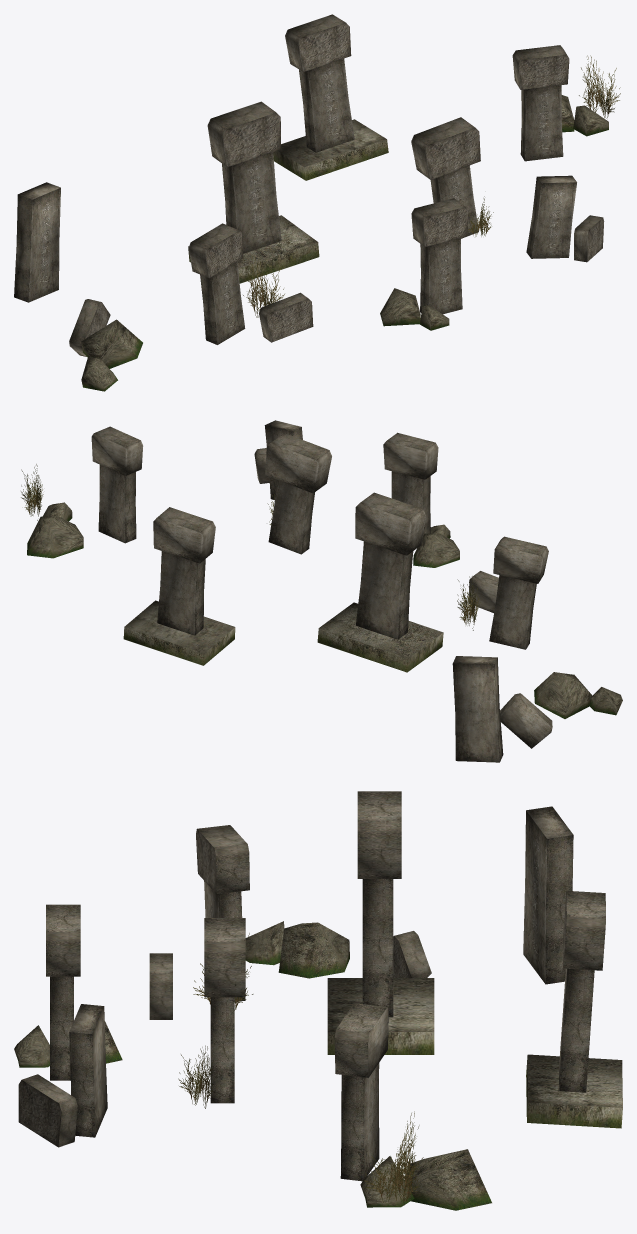
Rendered from cj_grave_tombstone08_01.glb.
3 views of the same model, one above another, from view 1: azimuth 30°, elevation 25°; view 2: azimuth 150°, elevation 25°; view 3: azimuth 270°, elevation 25° (orthographic). The views are drawn at different scales.
Visible parts, largest first — view 1: cj_grave_tombstone08_01, cj_grave_tombstone08_02, cj_grave_tombstone08_03, cj_grave_tombstone08_05, cj_grave_tombstone08_04; view 2: cj_grave_tombstone08_01, cj_grave_tombstone08_03, cj_grave_tombstone08_05, cj_grave_tombstone08_04; view 3: cj_grave_tombstone08_01, cj_grave_tombstone08_05, cj_grave_tombstone08_03, cj_grave_tombstone08_02, cj_grave_tombstone08_04.
Part boxes in pixels (bbox=[...]): cj_grave_tombstone08_01: bbox=[14, 14, 602, 357]; cj_grave_tombstone08_02: bbox=[85, 22, 604, 342]; cj_grave_tombstone08_03: bbox=[188, 119, 388, 283]; cj_grave_tombstone08_05: bbox=[81, 95, 608, 391]; cj_grave_tombstone08_04: bbox=[243, 55, 620, 317]; cj_grave_tombstone08_01: bbox=[91, 420, 552, 762]; cj_grave_tombstone08_03: bbox=[123, 600, 443, 672]; cj_grave_tombstone08_05: bbox=[27, 502, 622, 718]; cj_grave_tombstone08_04: bbox=[21, 464, 480, 630]; cj_grave_tombstone08_01: bbox=[22, 791, 605, 1181]; cj_grave_tombstone08_05: bbox=[14, 921, 491, 1210]; cj_grave_tombstone08_03: bbox=[327, 978, 622, 1128]; cj_grave_tombstone08_02: bbox=[18, 829, 566, 1146]; cj_grave_tombstone08_04: bbox=[178, 933, 424, 1205].
Size of the model in its own units: 13.29 by 4.66 by 8.25.
5 materials, 5 textured.
